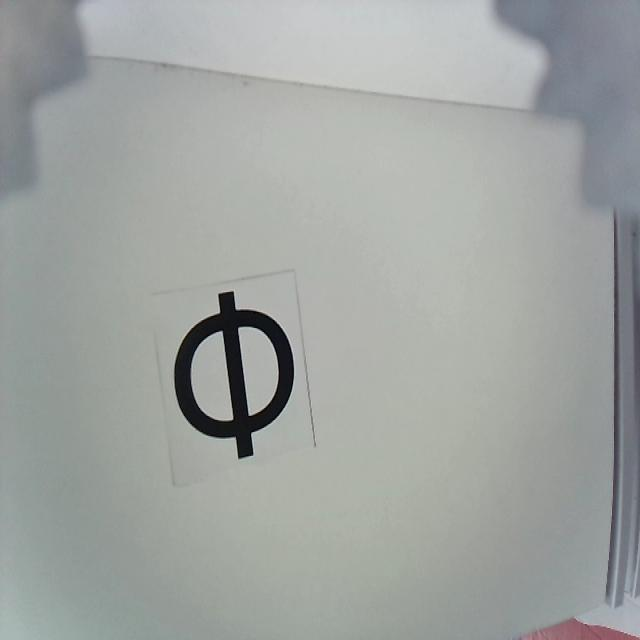F: (175, 289, 295, 460)
